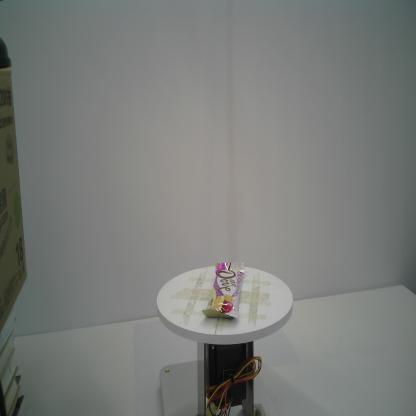Chocolate: (202, 261, 244, 319)
